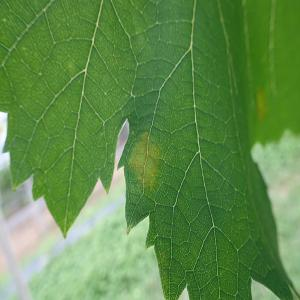Folha: (0, 0, 299, 298)
Fungo: (128, 129, 162, 197), (255, 88, 267, 120)
